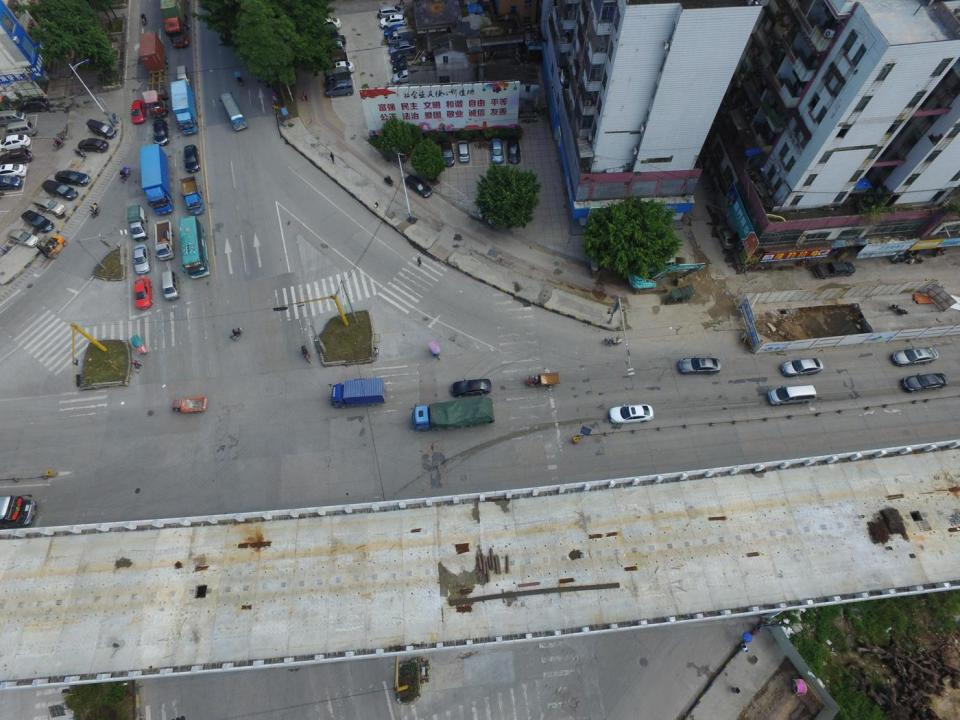car: (902, 372, 949, 392), (609, 405, 655, 425), (892, 348, 939, 367), (450, 378, 491, 397), (781, 358, 824, 376), (679, 358, 721, 375), (20, 211, 52, 233), (6, 228, 38, 249), (404, 175, 432, 197), (134, 278, 153, 310), (55, 169, 90, 186), (0, 148, 33, 166), (132, 244, 150, 274), (0, 135, 31, 152), (715, 223, 735, 249), (392, 68, 424, 84), (18, 98, 50, 114), (183, 144, 200, 173), (318, 34, 346, 51), (393, 56, 422, 72), (326, 60, 354, 76), (77, 139, 107, 153), (326, 70, 352, 86), (153, 120, 169, 145), (314, 18, 342, 32), (391, 40, 415, 56), (441, 141, 455, 167), (508, 136, 521, 164), (491, 138, 504, 164), (456, 139, 470, 163), (392, 50, 416, 64), (132, 99, 145, 124), (0, 164, 26, 176), (383, 23, 405, 36), (0, 174, 21, 187)
truck: (412, 399, 495, 431), (138, 32, 168, 118), (140, 145, 172, 217), (179, 217, 209, 278), (330, 376, 384, 408), (171, 79, 199, 138), (159, 0, 189, 48), (216, 91, 248, 132), (180, 176, 205, 212), (154, 219, 174, 260), (127, 205, 148, 241), (387, 25, 424, 44), (815, 262, 855, 278), (174, 397, 207, 414)
van: (768, 383, 817, 405), (42, 180, 77, 200), (33, 197, 68, 216), (86, 118, 116, 138), (3, 121, 36, 138), (325, 79, 353, 99), (161, 271, 180, 300), (0, 110, 26, 127), (379, 5, 406, 18), (380, 15, 406, 28), (176, 66, 190, 84)
